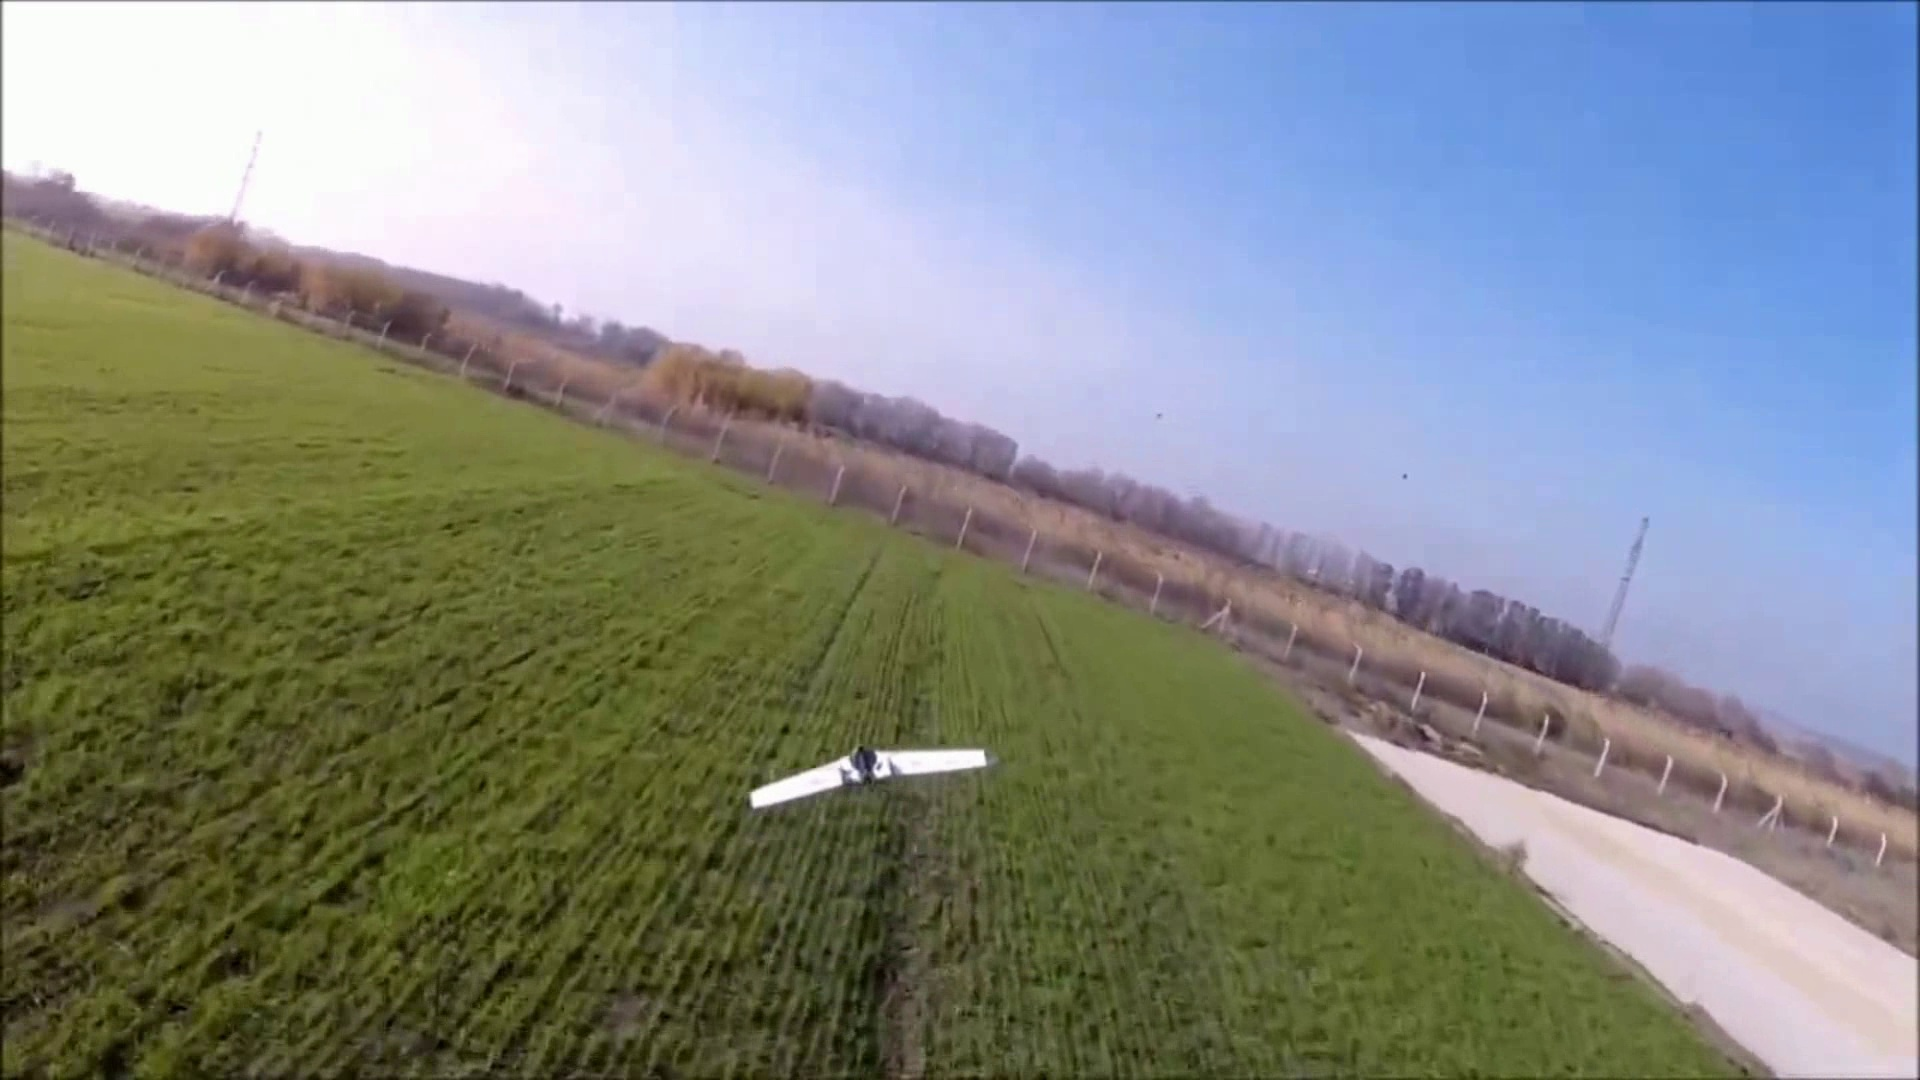airplane: (748, 742, 992, 815)
